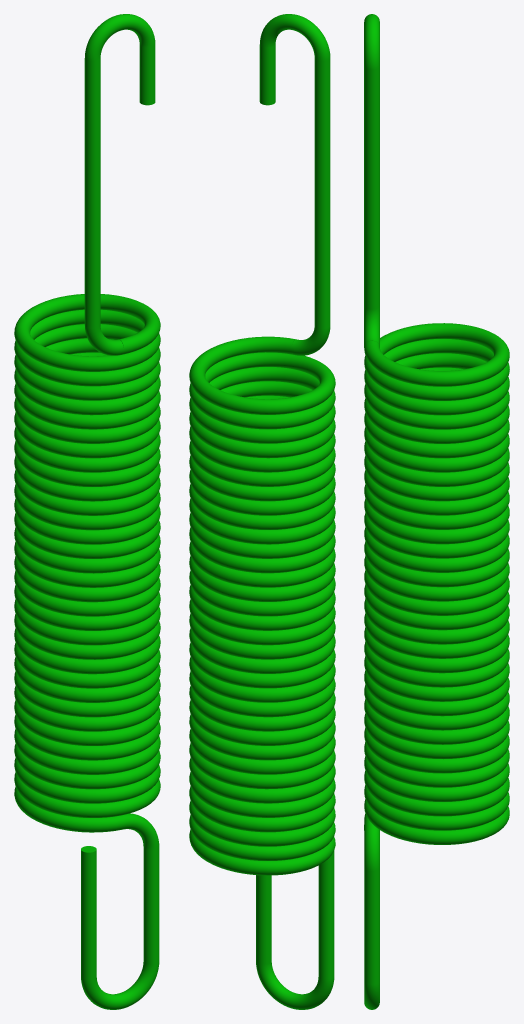
3 renders of one model, left to right at view 1: azimuth 30°, elevation 25°; view 2: azimuth 150°, elevation 25°; view 3: azimuth 270°, elevation 25°, orthographic.
Visible parts, largest first — view 1: Part4Final; view 2: Part4Final; view 3: Part4Final.
Part boxes in pixels (left/top/right/bottom): Part4Final: left=14, top=14, right=160, bottom=1009; Part4Final: left=189, top=14, right=335, bottom=1009; Part4Final: left=364, top=14, right=509, bottom=1009.
Bounding box in the file's own units: 0.0439 × 0.3289 × 0.0439.
